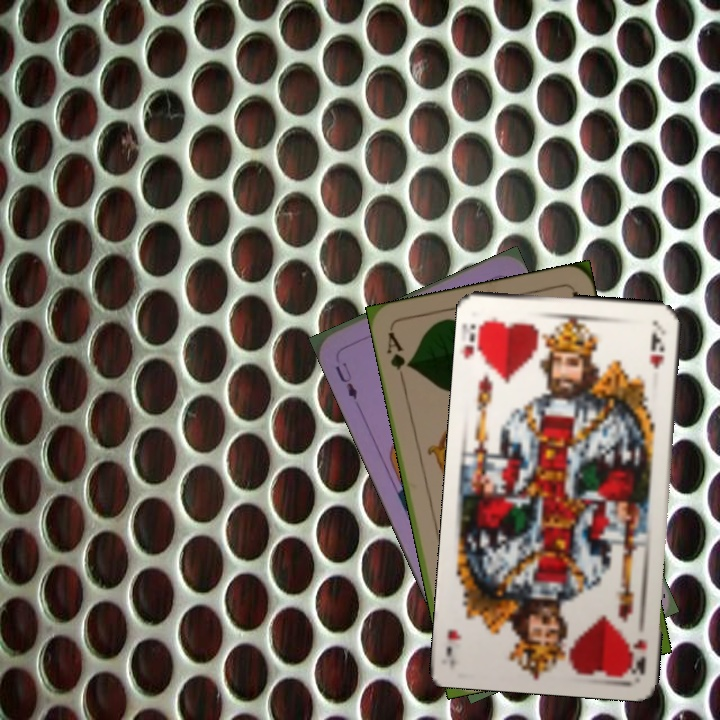EU: (331, 358, 361, 403)
GA: (382, 328, 413, 385)
HK: (462, 316, 490, 368), (623, 635, 649, 675)
